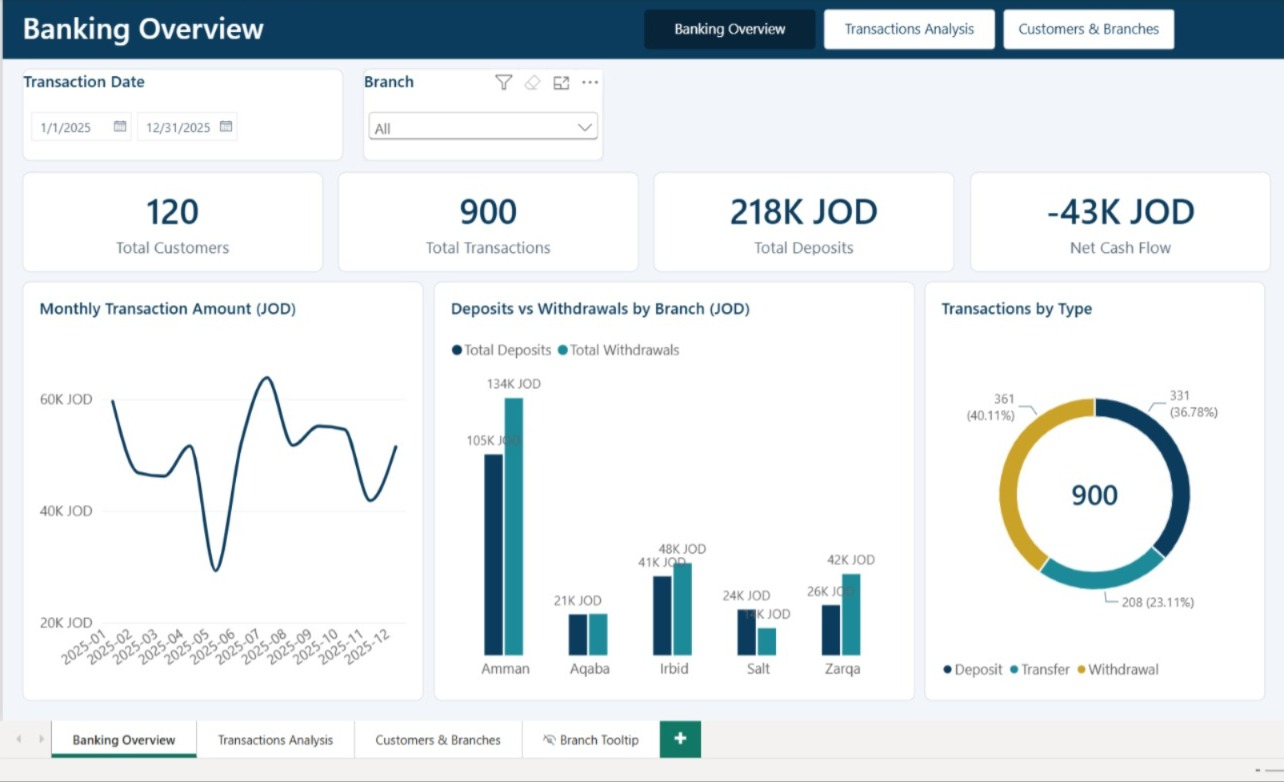

Layout of this report page (visuals, bound fields, positions):
{"tool":"powerbi","page":{"name":"Banking Overview","canvas":[1280,720],"ordinal":0},"visuals":[{"type":"textbox","box":[0,0,1280,60],"z":0},{"type":"textbox","box":[20,8,610,44],"z":1},{"type":"pageNavigator","box":[640,10,530,40],"z":2},{"type":"slicer","title":"Transaction Date","fields":{"Values":["Transactions.TransactionDate"]},"box":[20,70,320,92],"z":3},{"type":"slicer","title":"Branch","fields":{"Values":["Transactions.Branch"]},"box":[360,70,240,92],"z":4},{"type":"card","fields":{"Values":["Transactions.Total Customers"]},"box":[20,172,300,100],"z":5},{"type":"card","fields":{"Values":["Transactions.Total Transactions"]},"box":[335,172,300,100],"z":6},{"type":"card","fields":{"Values":["Transactions.Total Deposits"]},"box":[650,172,300,100],"z":7},{"type":"card","fields":{"Values":["Transactions.Net Cash Flow"]},"box":[965,172,300,100],"z":8},{"type":"lineChart","title":"Monthly Transaction Amount (JOD)","fields":{"Category":["Transactions.Transaction Month"],"Y":["Transactions.Total Transaction Amount"]},"box":[20,282,400,418],"z":9},{"type":"clusteredColumnChart","title":"Deposits vs Withdrawals by Branch (JOD)","fields":{"Category":["Transactions.Branch"],"Y":["Transactions.Total Deposits","Transactions.Total Withdrawals"]},"box":[430,282,480,418],"z":10},{"type":"donutChart","title":"Transactions by Type","fields":{"Category":["Transactions.TransactionType"],"Y":["Transactions.Total Transactions"]},"box":[920,282,340,418],"z":11}]}

Visuals, with their boxes on the page's 1280x720 design canvas (x1, y1, x2, y2). These are canvas units, not pixel positions in the 1284x782 screenshot, which may show the page scaled, cropped or inside an application window:
textbox: Rect(0, 0, 1280, 60)
textbox: Rect(20, 8, 630, 52)
pageNavigator: Rect(640, 10, 1170, 50)
"Transaction Date" slicer: Rect(20, 70, 340, 162)
"Branch" slicer: Rect(360, 70, 600, 162)
card - Transactions.Total Customers: Rect(20, 172, 320, 272)
card - Transactions.Total Transactions: Rect(335, 172, 635, 272)
card - Transactions.Total Deposits: Rect(650, 172, 950, 272)
card - Transactions.Net Cash Flow: Rect(965, 172, 1265, 272)
"Monthly Transaction Amount (JOD)" lineChart: Rect(20, 282, 420, 700)
"Deposits vs Withdrawals by Branch (JOD)" clusteredColumnChart: Rect(430, 282, 910, 700)
"Transactions by Type" donutChart: Rect(920, 282, 1260, 700)
